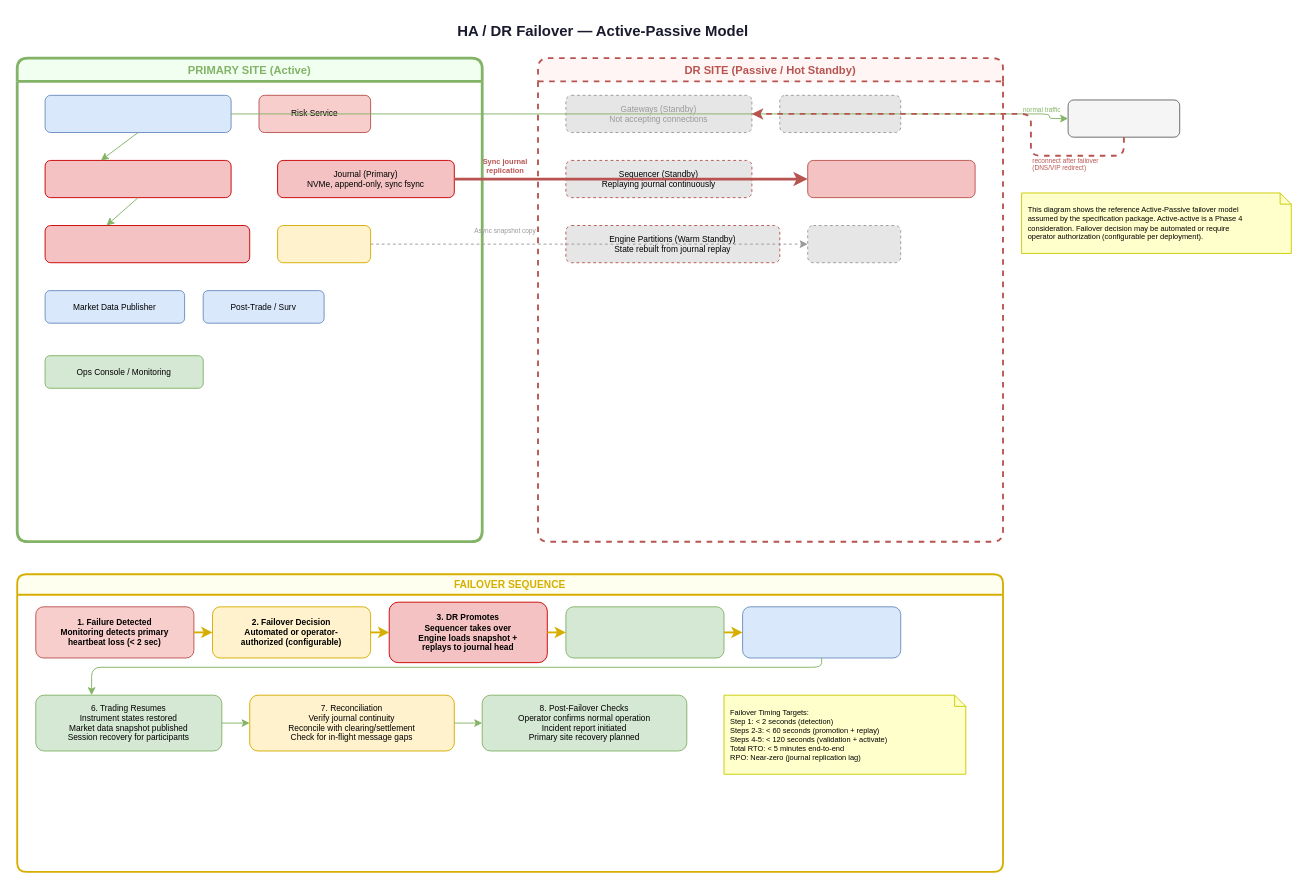
The diagram is 1308 pixels wide and 888 high, and some of its shapes have lost their labels. The shapes that lost their labels are listed below. From the top down, each one's box as (x1, y1, x2, y2) in pixels, then its label:
(44, 94, 231, 133): Gateways (FIX + Binary) Active, accepting connections
(779, 94, 901, 133): Risk Service (Standby)
(1067, 99, 1180, 137): Participants (Brokers, MMs)
(44, 159, 231, 198): Sequencer (Active) Assigning seq# + timestamps
(807, 159, 975, 198): Journal (Replica) Sync replicated from primary
(44, 225, 250, 263): Engine Partitions (Active) Processing orders, matching
(277, 225, 371, 263): Snapshots (periodic)
(807, 225, 901, 263): Snapshots (async copy)
(565, 606, 724, 658): 4. State Validated Order count, book checksums, seq# continuity confirmed
(742, 606, 901, 658): 5. Gateways Activate DNS/VIP updated Participants reconnect
